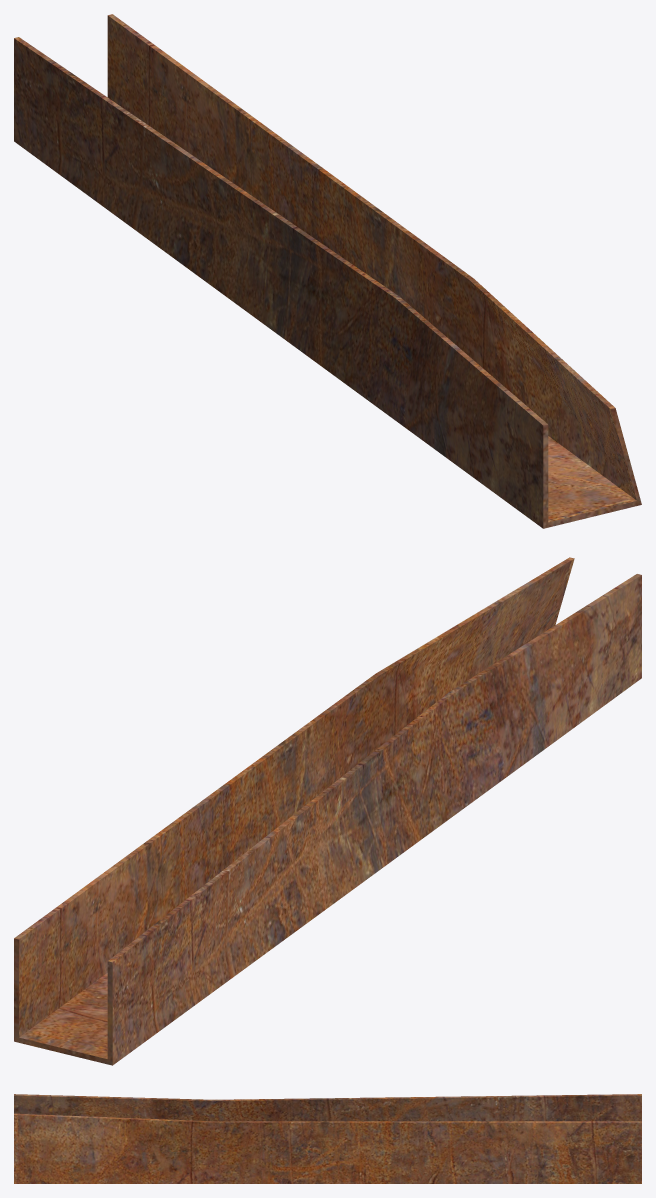
The model's file is Metal_Bar_C_2.fbx.
The picture shows the model from 3 angles, top to bottom: view 1: azimuth 30°, elevation 25°; view 2: azimuth 150°, elevation 25°; view 3: azimuth 270°, elevation 25°; orthographic projection. The views are drawn at different scales.
Parts seen in each view (by area): view 1: pCube4; view 2: pCube4; view 3: pCube4.
Boxes of the visible parts, x1,y1,x2,y2 form: pCube4: [14, 14, 641, 528]; pCube4: [14, 557, 641, 1065]; pCube4: [14, 1094, 641, 1183].
Size of the model in its own units: 1 by 1 by 9.3.
